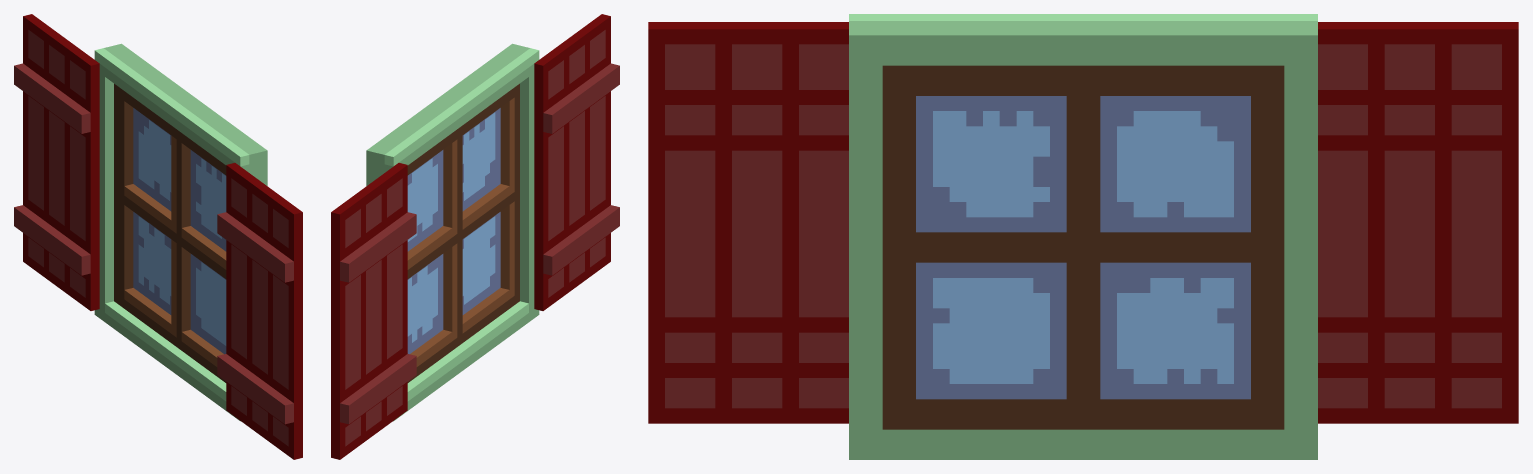
File: window_textured_small_red_green.glb
The picture shows the model from 3 angles, left to right: view 1: azimuth 30°, elevation 25°; view 2: azimuth 150°, elevation 25°; view 3: azimuth 270°, elevation 25°; orthographic projection. The views are drawn at different scales.
Parts seen in each view (by area): view 1: window_textured_small_red_green; view 2: window_textured_small_red_green; view 3: window_textured_small_red_green.
Part boxes in pixels (box(x1,y1,x2,y2)): window_textured_small_red_green: box(14, 14, 302, 459); window_textured_small_red_green: box(331, 14, 619, 459); window_textured_small_red_green: box(648, 14, 1518, 459).
Bounding box in the file's own units: 0.5 × 2.8 × 5.2.
1 material, 1 textured.
